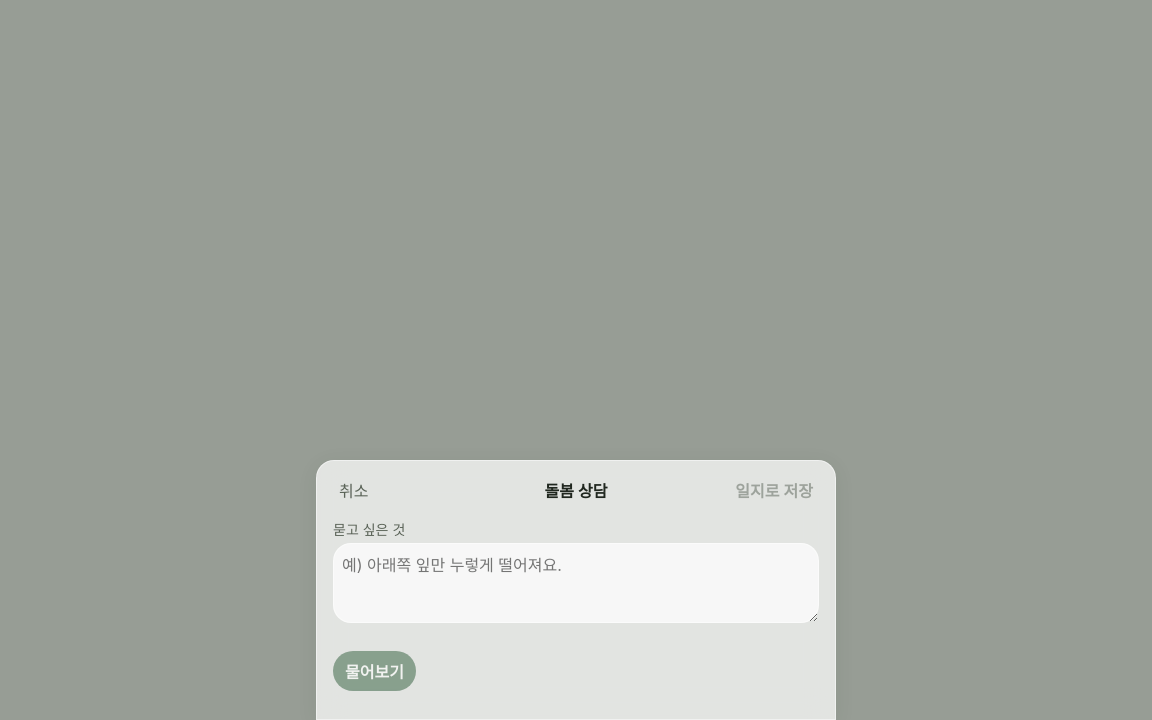
Test: ConsultSheet — 앱이 직접 묻는 경로 › 실패하면 사람이 읽을 수 있는 안내를 보여 준다
In the text box labelled "묻고 싶은 것": {"x": 576, "y": 583} 333,543 -> 819,623, type "잎이 처져요"
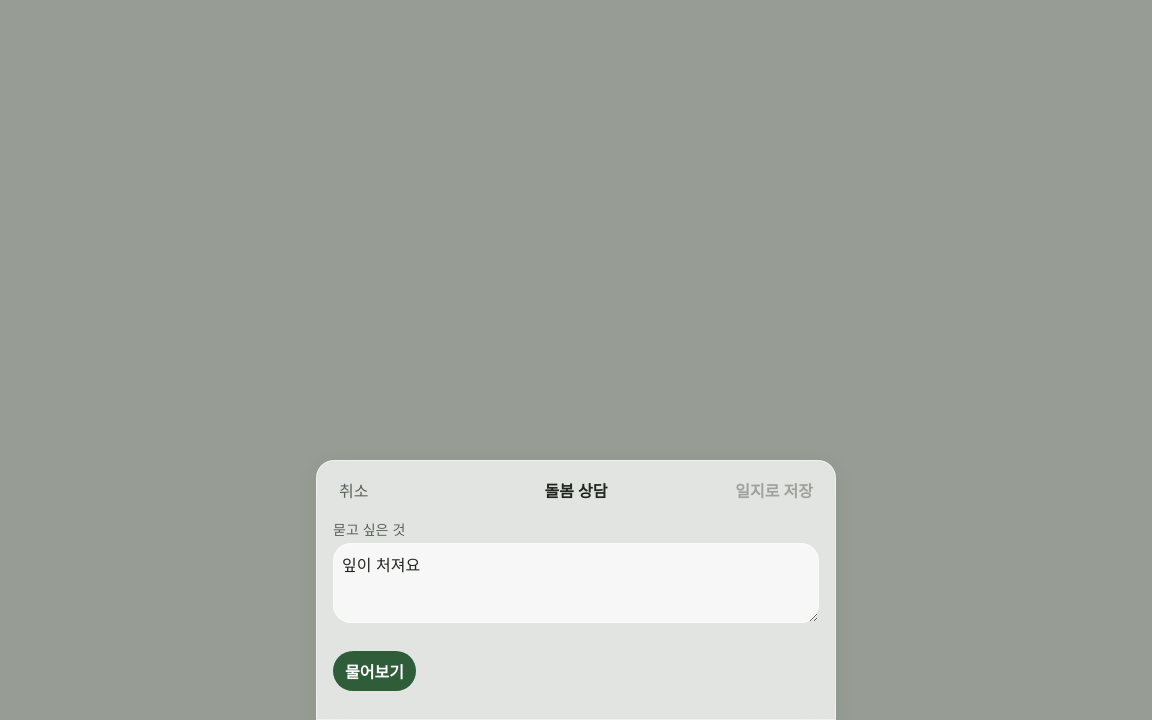
Click the button "물어보기": {"x": 374, "y": 671} 333,651 -> 416,691
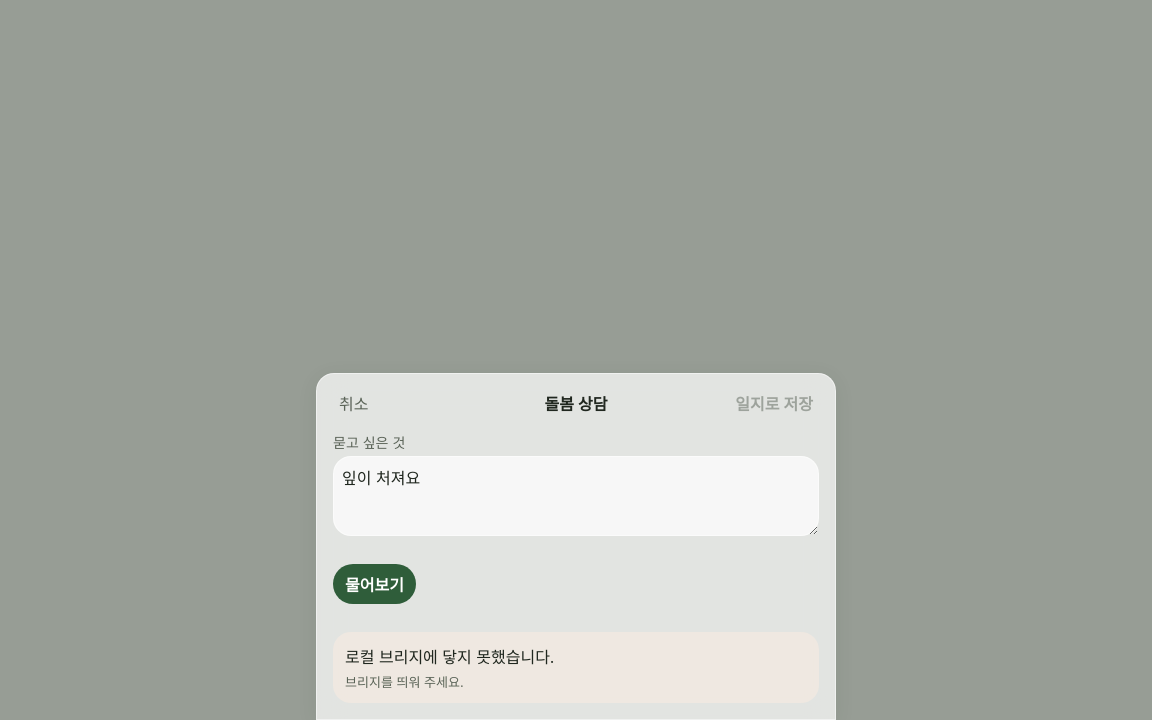
Now the text "로컬 브리지에 닿지 못했습니다." is shown, box 345,647 -> 554,667
Now the text "브리지를 띄워 주세요." is shown, box 345,674 -> 464,690
